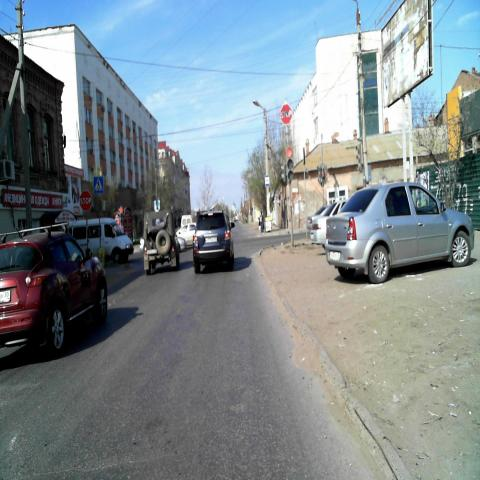2_5: (280, 104, 292, 126)
